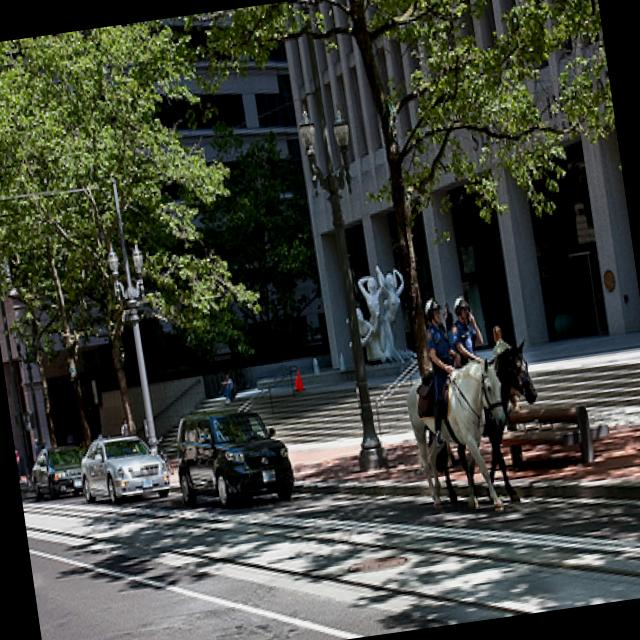Vehicle: (166, 394, 300, 510), (74, 428, 172, 509), (24, 436, 92, 504)
